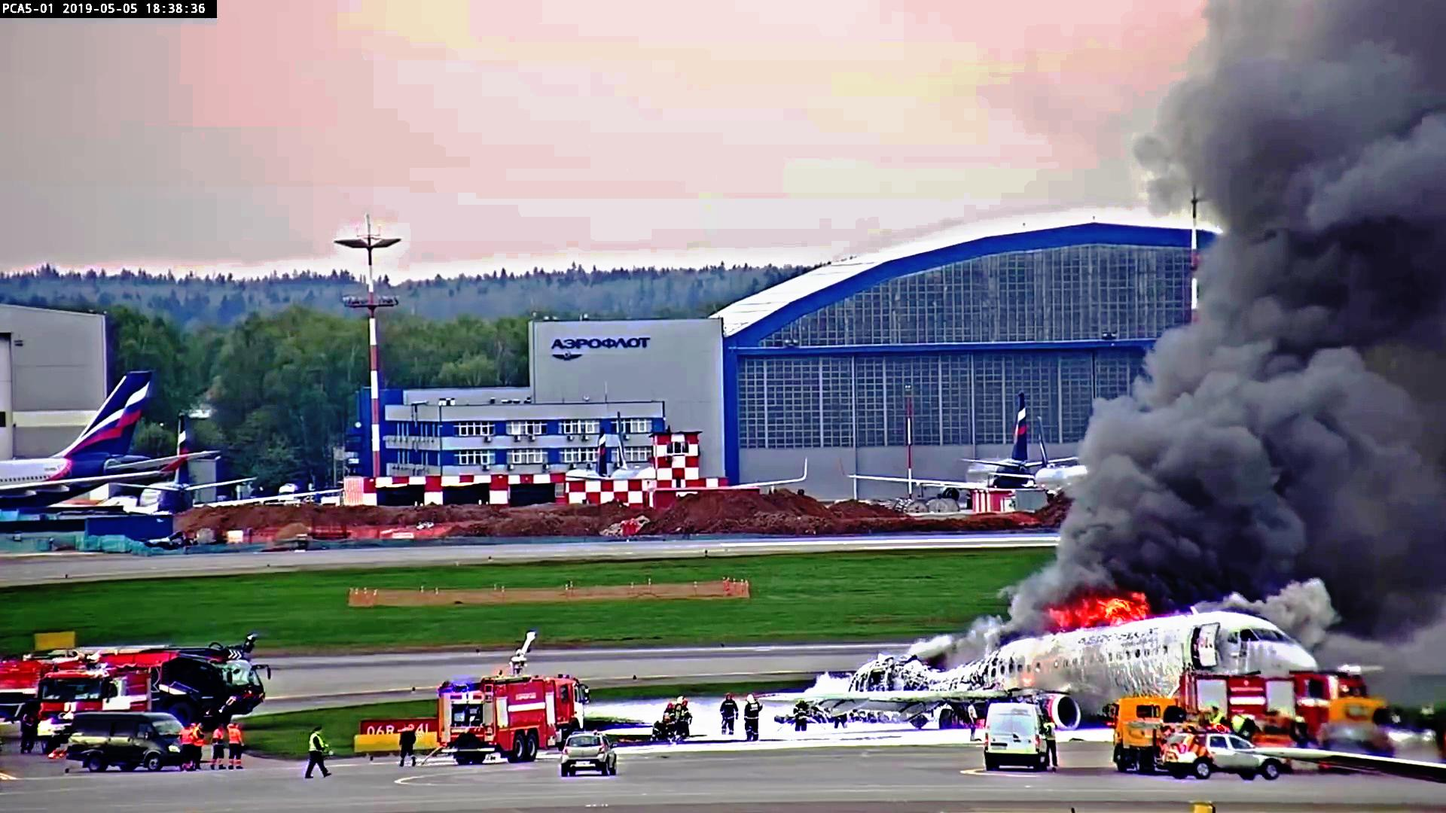fire: (1060, 582, 1159, 621)
smoke: (1203, 4, 1446, 590), (1096, 322, 1446, 592)
